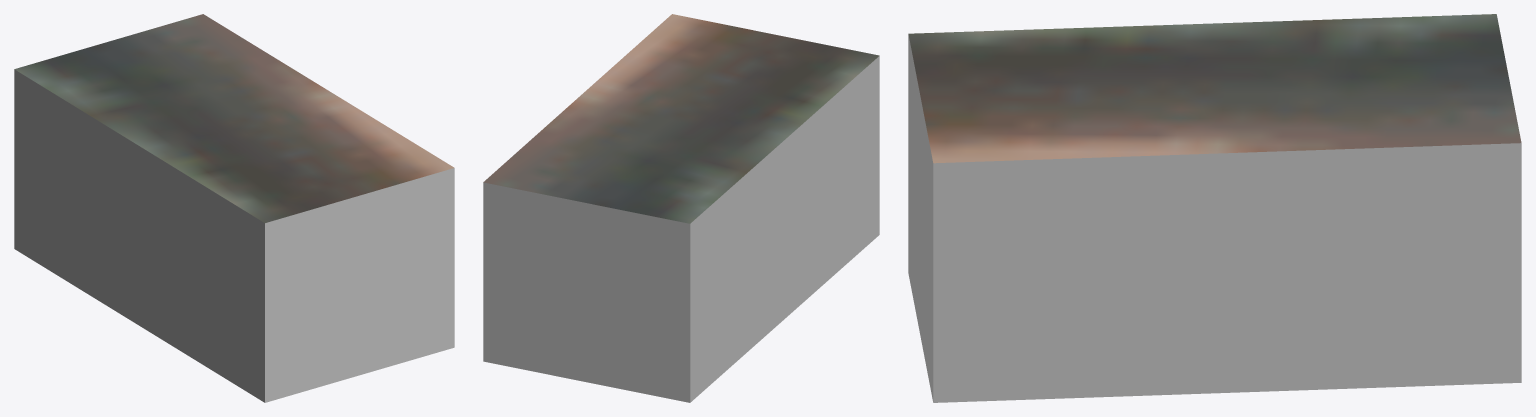
Rendered from DEBW_0010007Tx6w.gltf.
3 views of the same model, side by side, from view 1: azimuth 30°, elevation 25°; view 2: azimuth 150°, elevation 25°; view 3: azimuth 270°, elevation 25° (orthographic). The views are drawn at different scales.
Parts seen in each view (by area): view 1: Z_UP; view 2: Z_UP; view 3: Z_UP.
Part boxes in pixels (box(x1,y1,x2,y2)): Z_UP: box(14, 14, 454, 402); Z_UP: box(483, 14, 879, 402); Z_UP: box(908, 14, 1521, 402).
Size of the model in its own units: 3.41 by 2.55 by 5.92.
2 materials, 1 textured.
